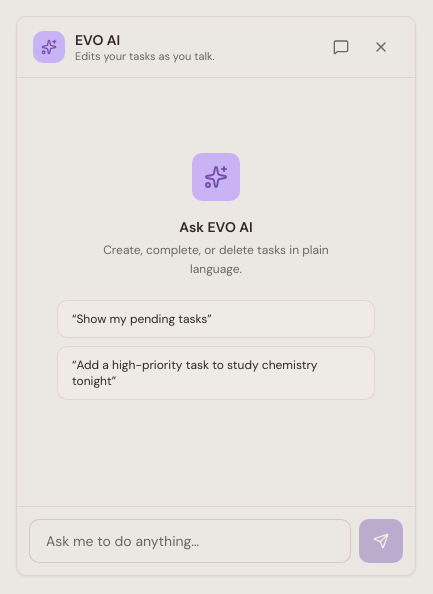
Scenario: a turn that did not fully succeed says so › does not invent a failure for a turn that predates the outcome field
(page scrolled)
Type "hello" into the field with placeholder "Ask me to do anything…" at point(190, 541), box [29,519,351,563]
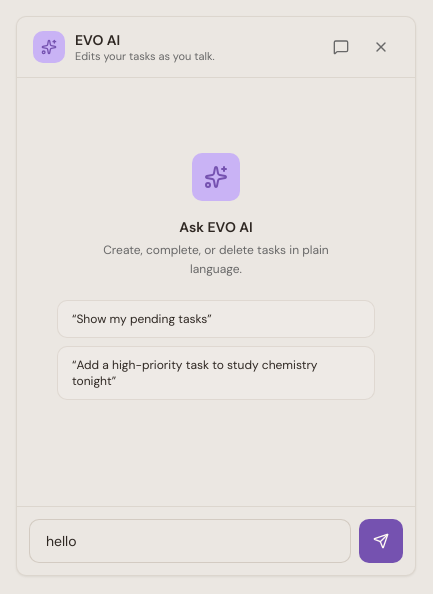
Click the button named "send" at point(381, 541), box [359,519,403,563]
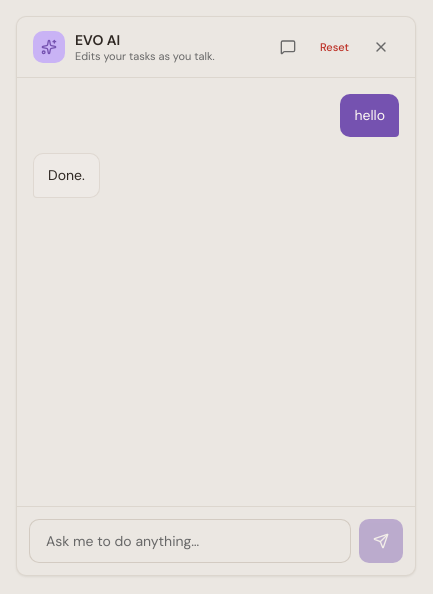
Now the text "Done." is shown, box [33,153,100,198]
